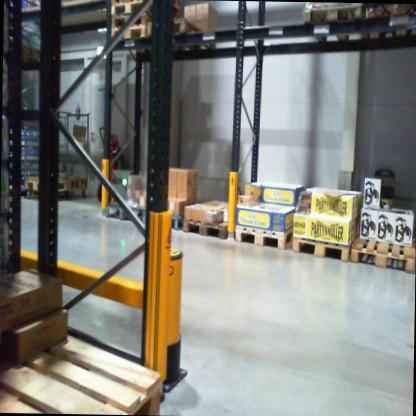pallet: (0, 320, 191, 413), (298, 4, 376, 55), (290, 214, 365, 264), (349, 223, 414, 278), (232, 209, 308, 253), (146, 17, 216, 62), (178, 202, 245, 248), (18, 161, 90, 202), (106, 26, 164, 68), (98, 194, 151, 233), (368, 5, 416, 45), (141, 203, 191, 232), (107, 3, 185, 21), (106, 18, 153, 29)
